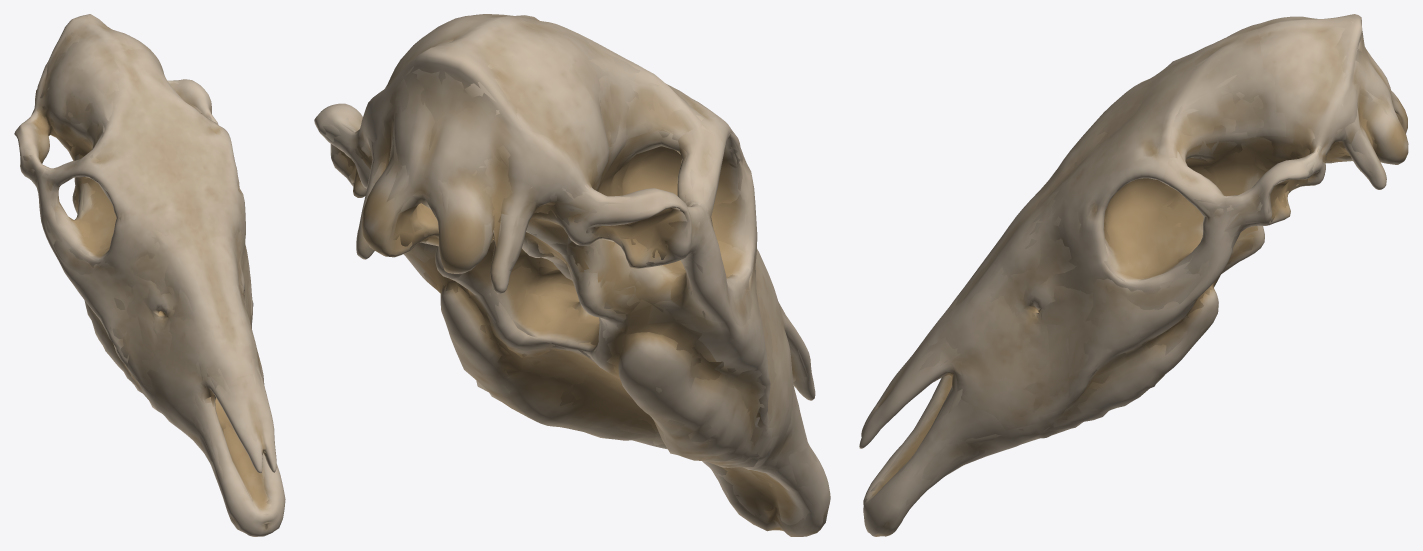
The model's file is Cranium.fbx.
The picture shows the model from 3 angles, left to right: view 1: azimuth 30°, elevation 25°; view 2: azimuth 150°, elevation 25°; view 3: azimuth 270°, elevation 25°; orthographic projection. The views are drawn at different scales.
Parts seen in each view (by area): view 1: Cranium, Cranium low; view 2: Cranium, Cranium low; view 3: Cranium, Cranium low.
Part boxes in pixels (x1,y1,x2,y2): Cranium: (14,14,285,536); Cranium low: (23,16,273,529); Cranium: (314,14,830,536); Cranium low: (323,15,827,530); Cranium: (859,14,1408,536); Cranium low: (865,18,1401,529).
Size of the model in its own units: 22.63 by 43.82 by 42.34.
Materials: 1 (1 with a texture image).
